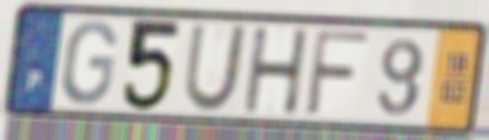5: (119, 18, 187, 115)
9: (375, 35, 427, 118)
F: (302, 27, 373, 120)
G: (58, 18, 120, 108)
H: (242, 26, 312, 117)
U: (180, 22, 251, 116)
